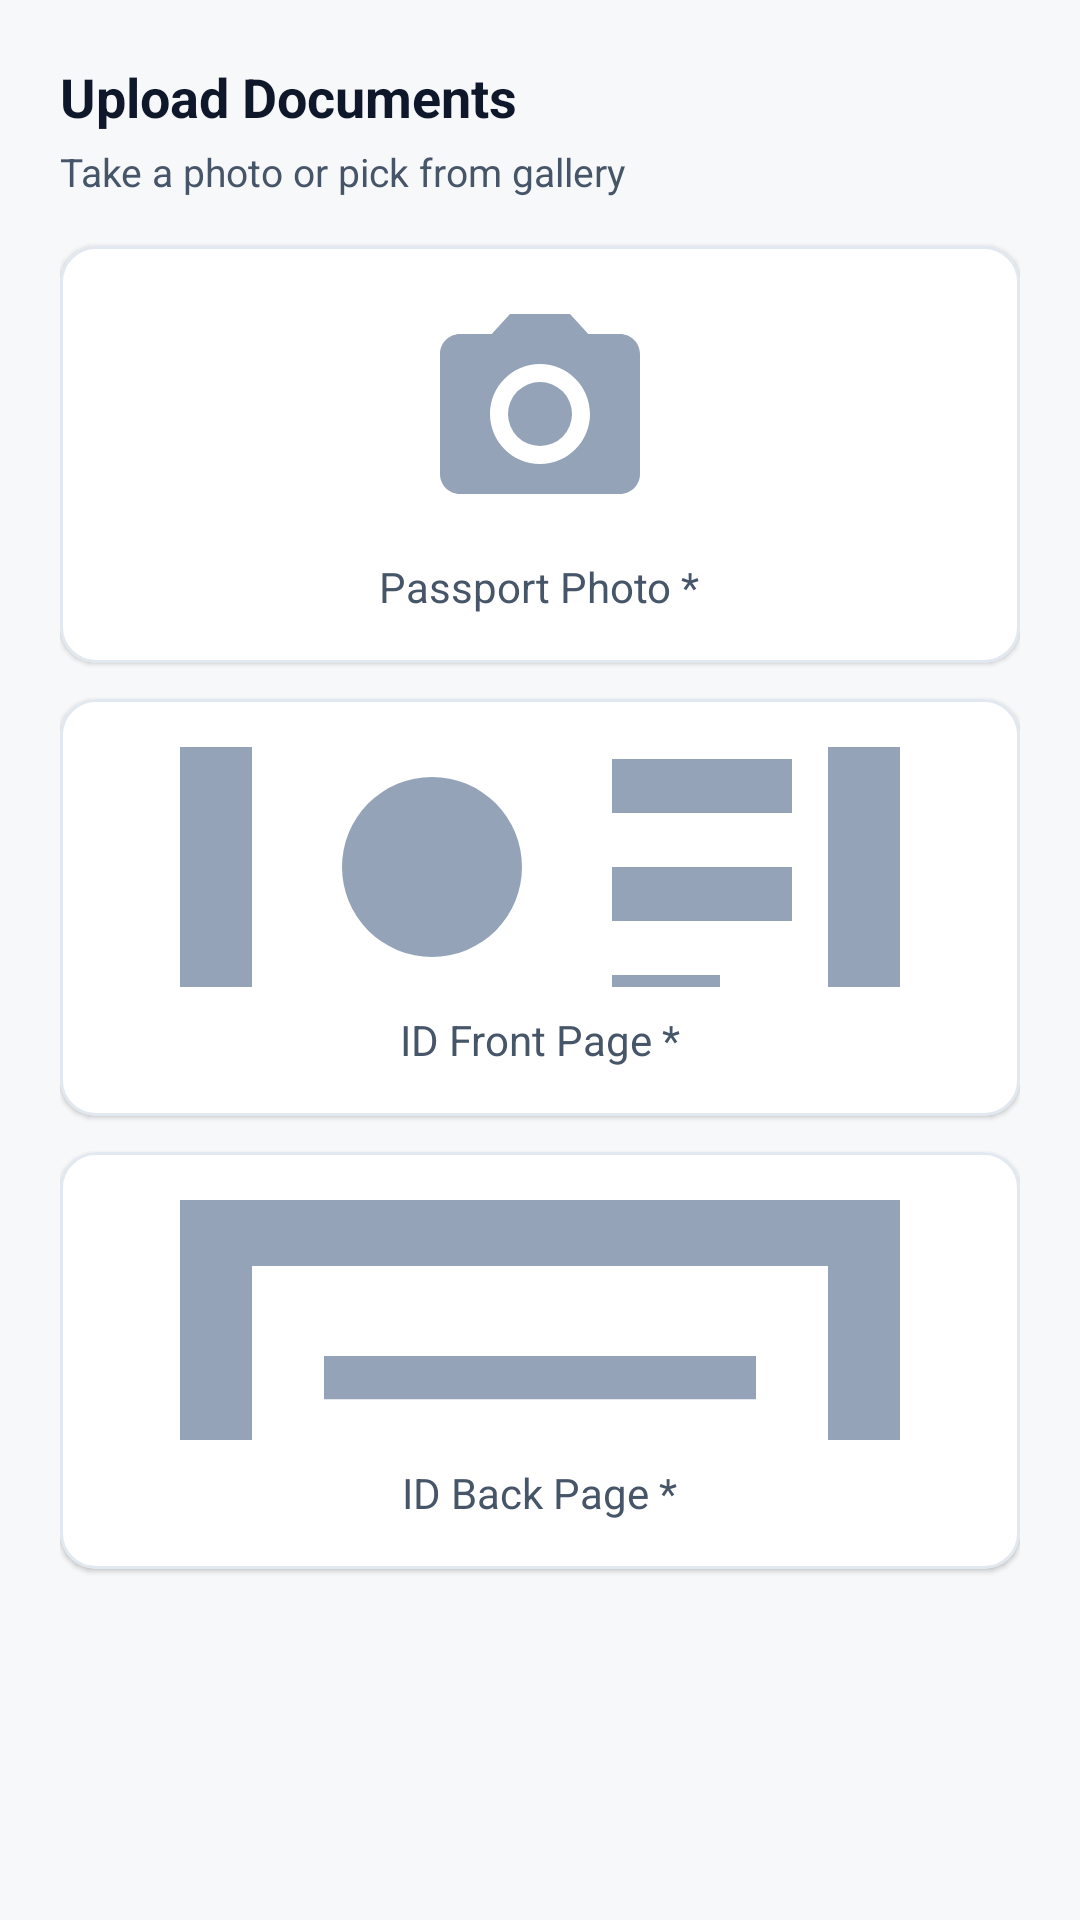

Screen size 1080px x 1920px. Icon name, then its box in pixels as (x1=x1, y1=y1, x2=x2, y2=y2):
camera: (x1=440, y1=314, x2=640, y2=494)
